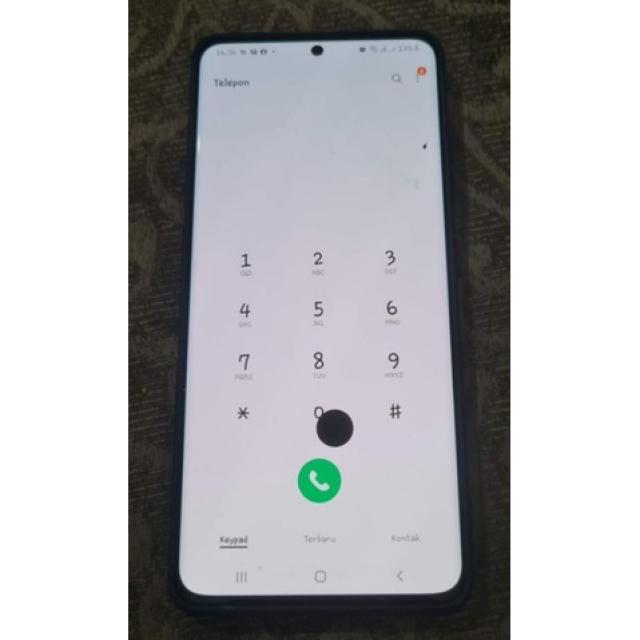dead pixel: (402, 124, 448, 171)
